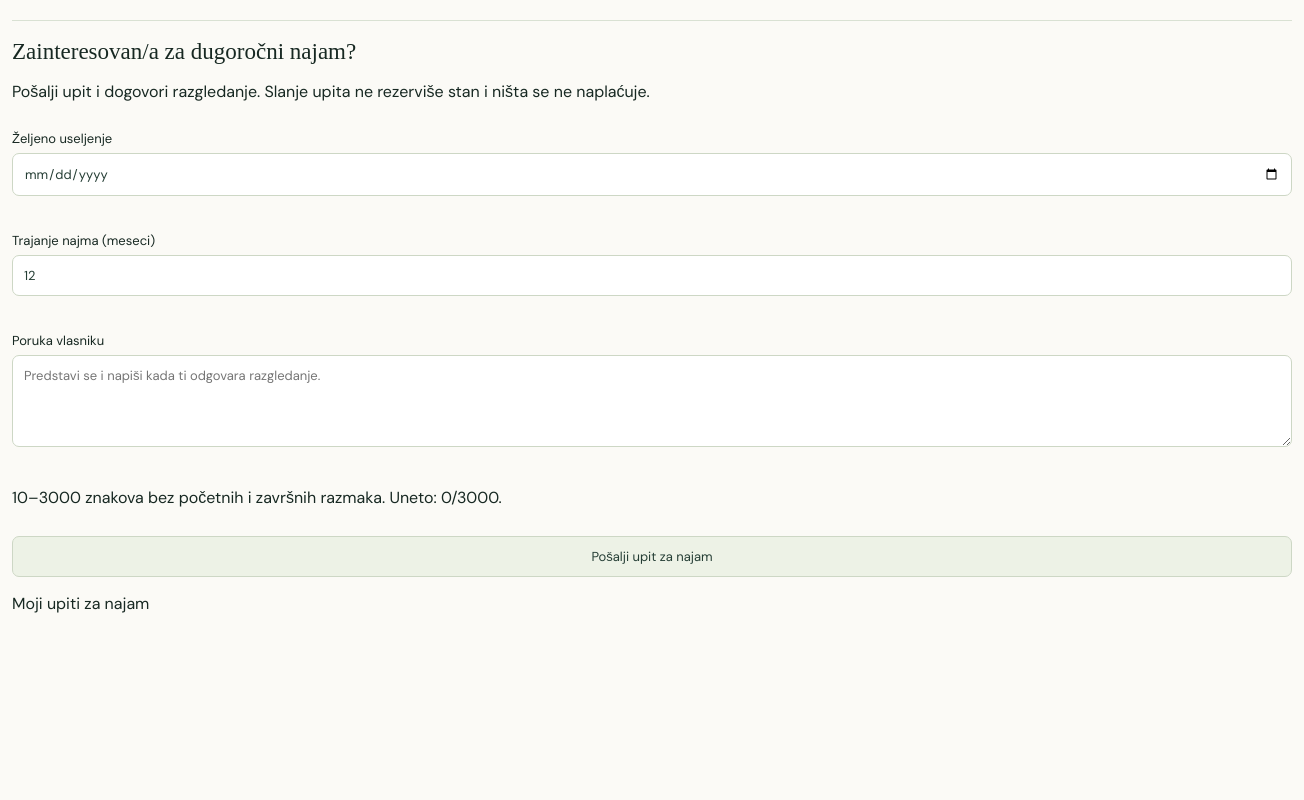
it: keeps the same request identifier after a failed submission
The image size is (1304, 800).
In the date field labelled "Željeno useljenje": (652, 174) [12,153,1292,196], type "2030-10-01"
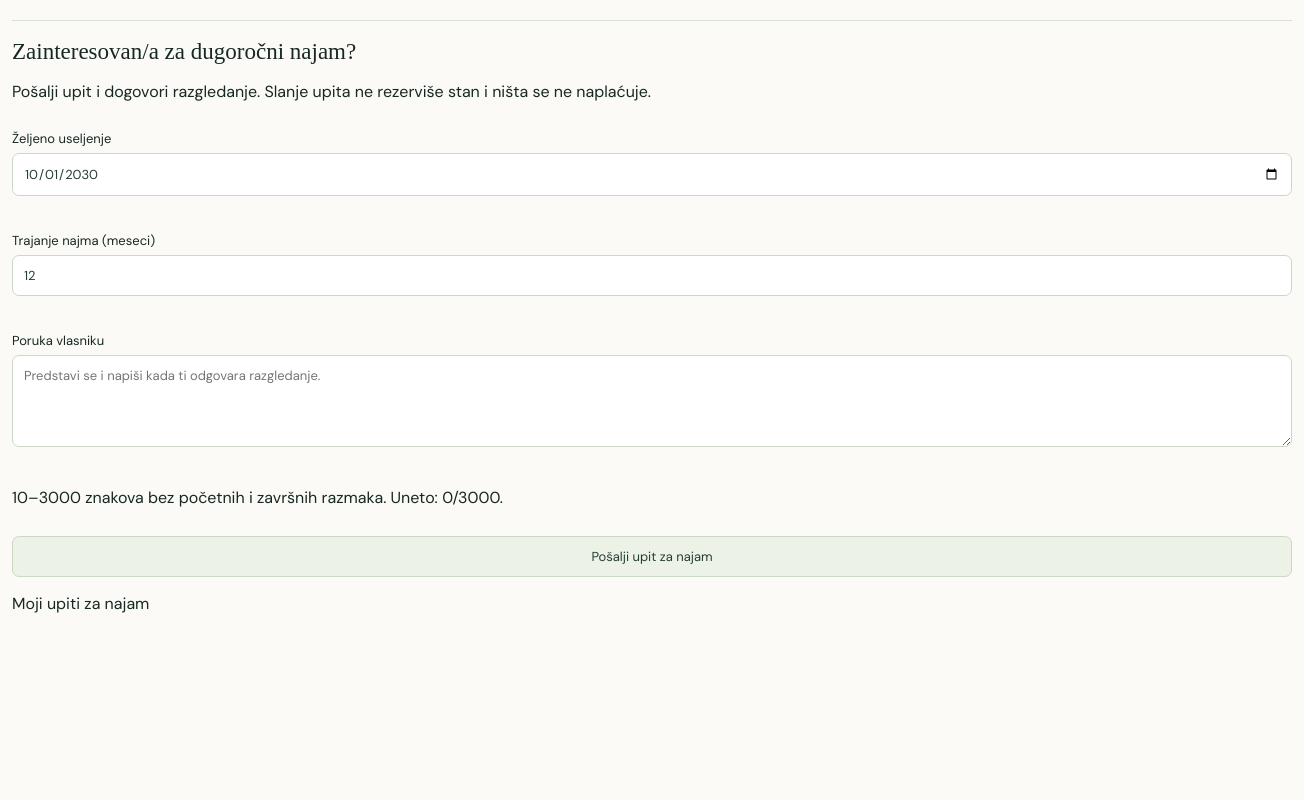
Click the button "Pošalji upit za najam": (652, 556) [12,536,1292,577]
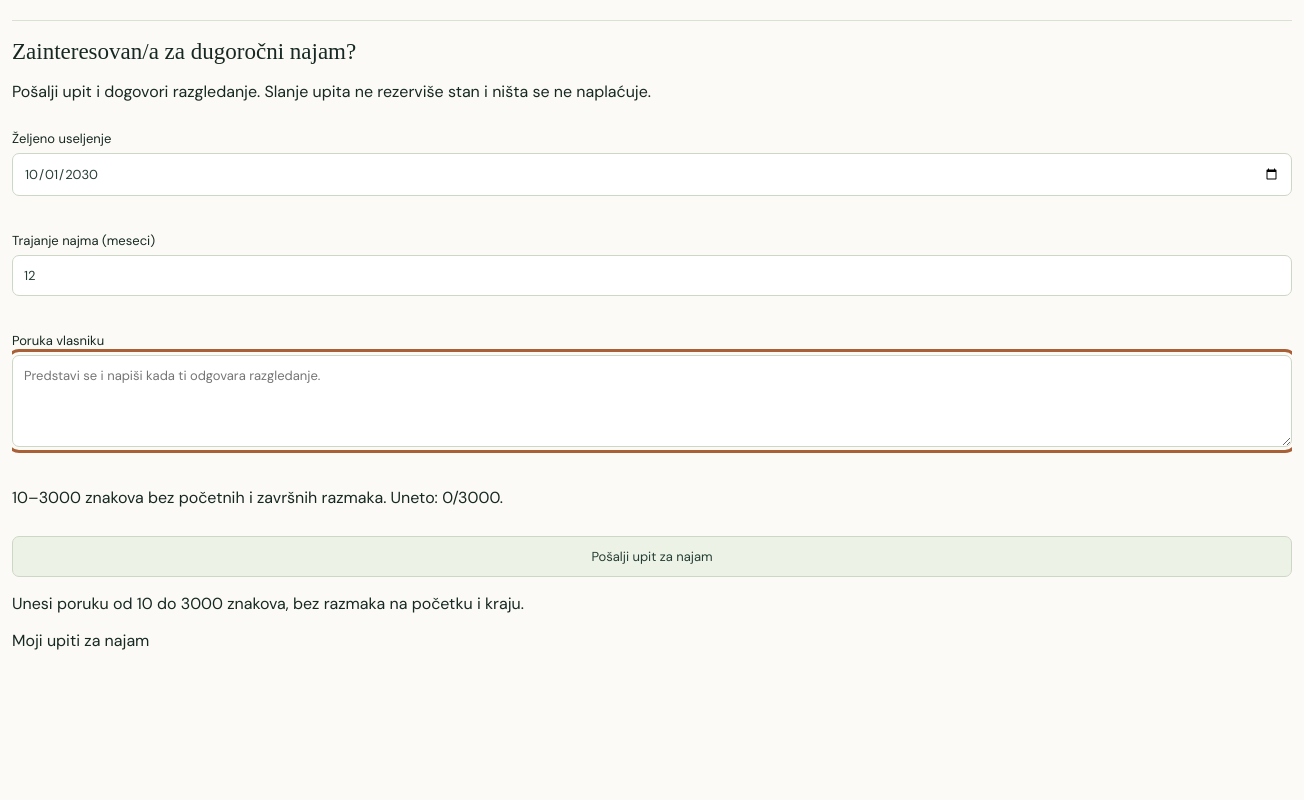
In the text box labelled "Poruka vlasniku": (652, 401) [12,355,1292,447], type "Želim da pogledam stan."
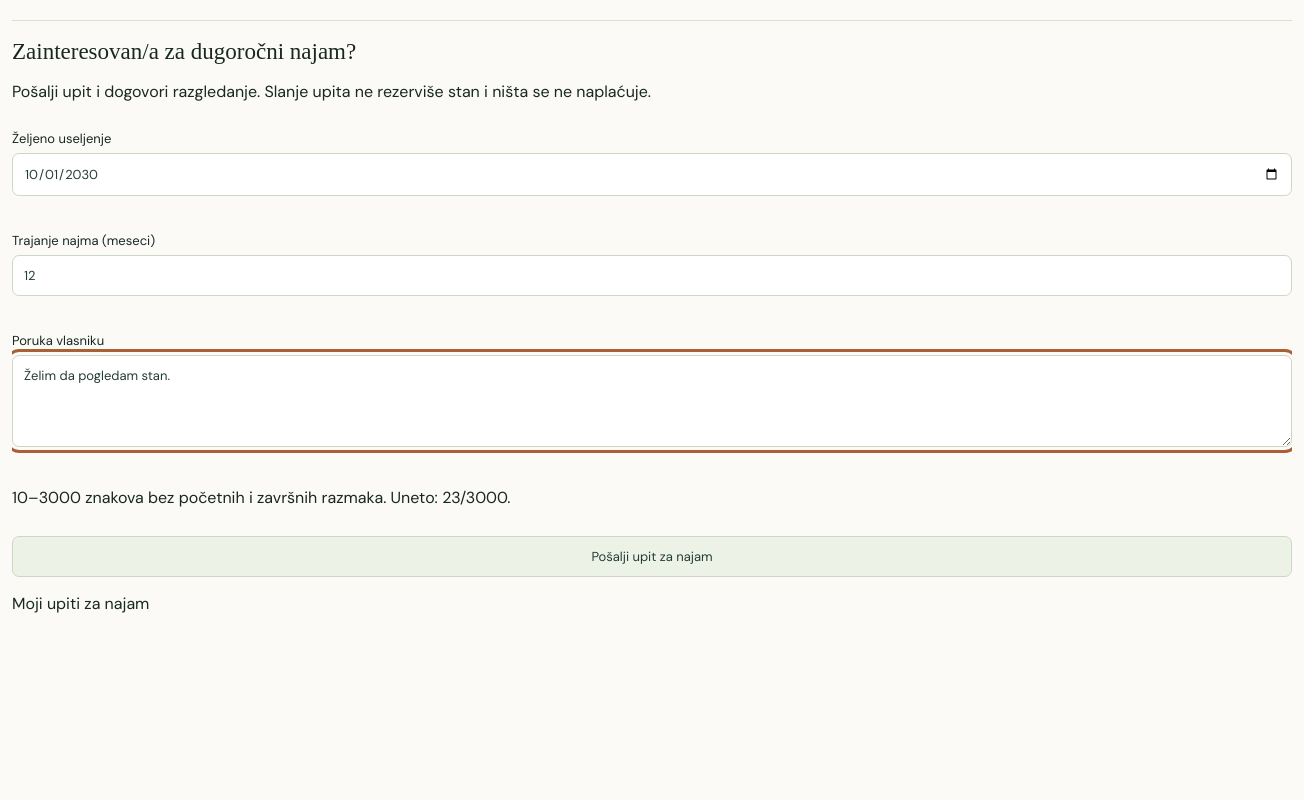
Click the button "Pošalji upit za najam": (652, 556) [12,536,1292,577]
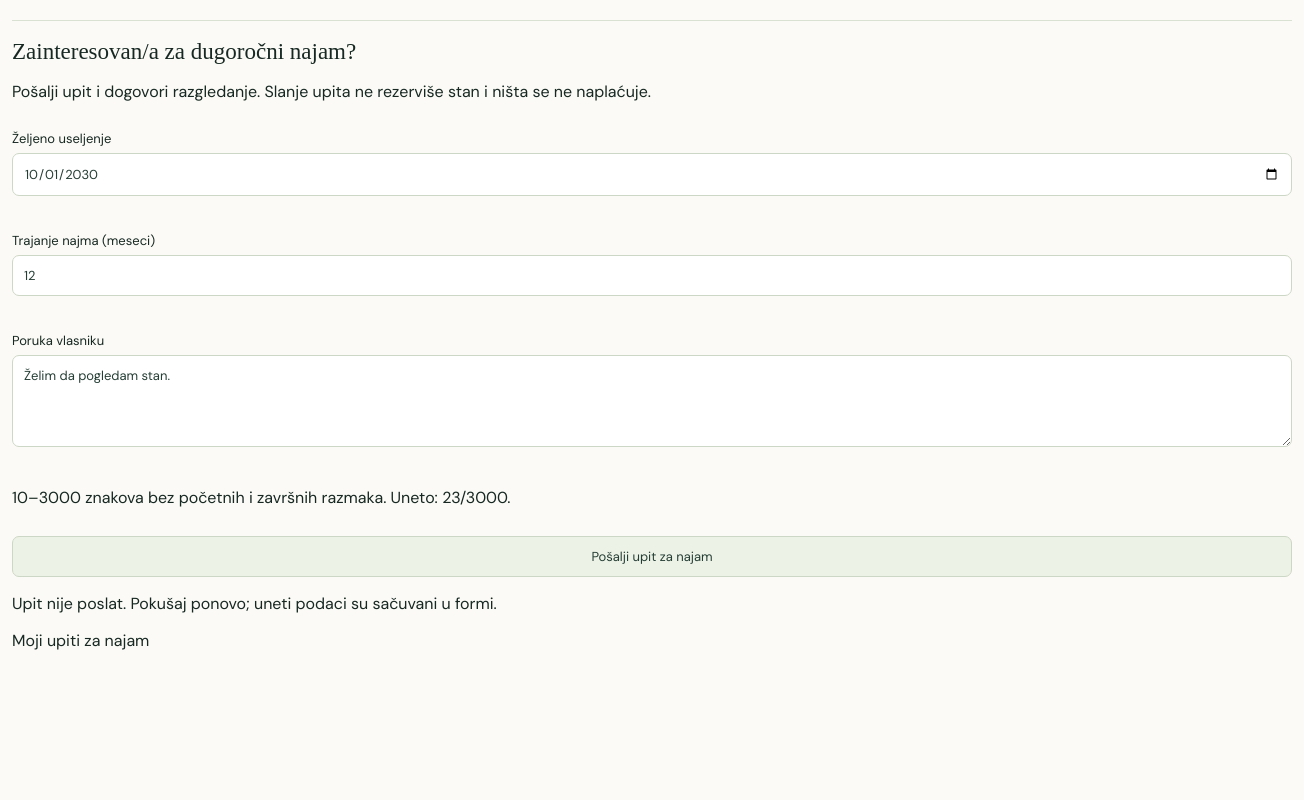
Check: the message "Upit nije poslat. Pokušaj ponovo; uneti podaci su sačuvani u formi." is shown, box [12,593,497,614]
Click the button "Pošalji upit za najam": (652, 556) [12,536,1292,577]
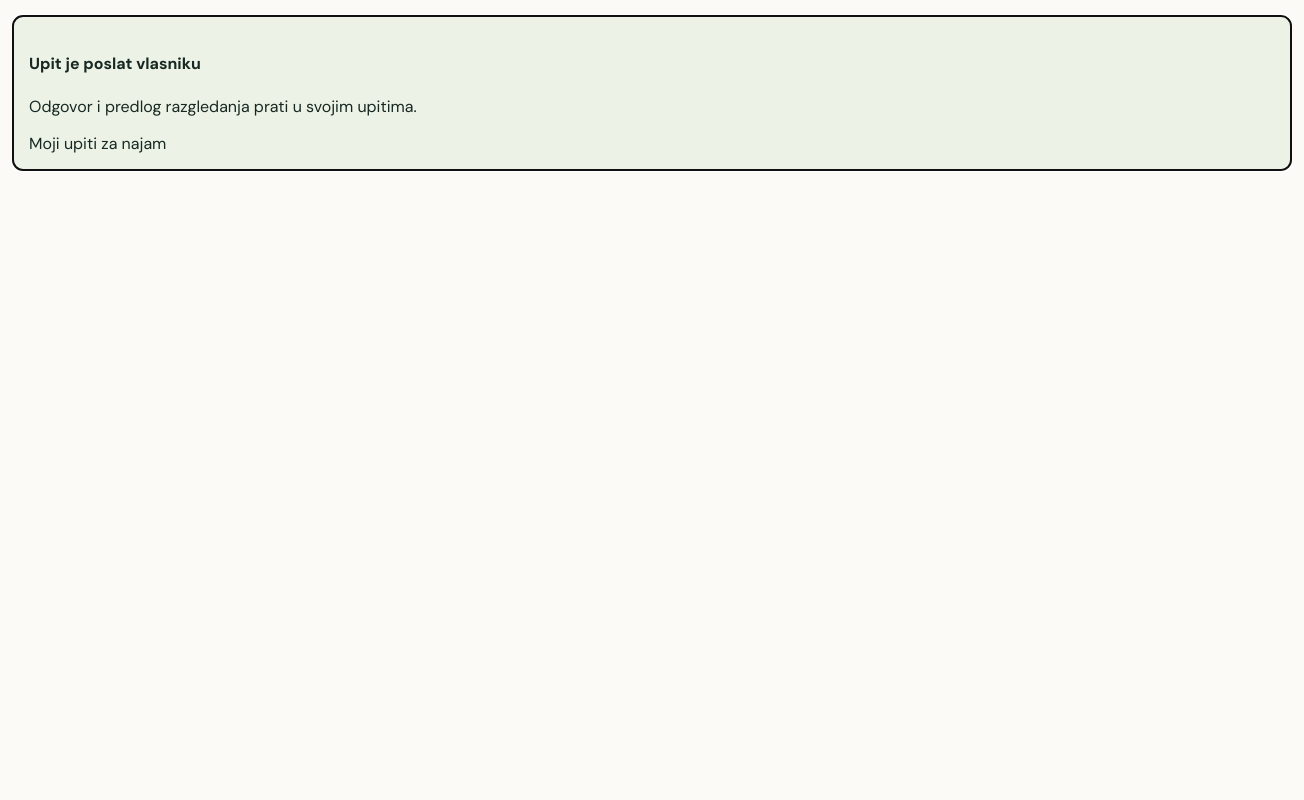
Check: the heading "Upit je poslat vlasniku" is shown, box [29,53,201,74]
